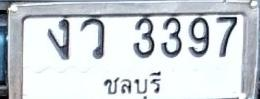3: (133, 17, 155, 59), (161, 17, 182, 59)
7: (216, 15, 238, 58)
9: (188, 17, 209, 59)
A07: (47, 18, 70, 61)
A37: (80, 18, 106, 60)
CBI: (97, 69, 163, 99)
